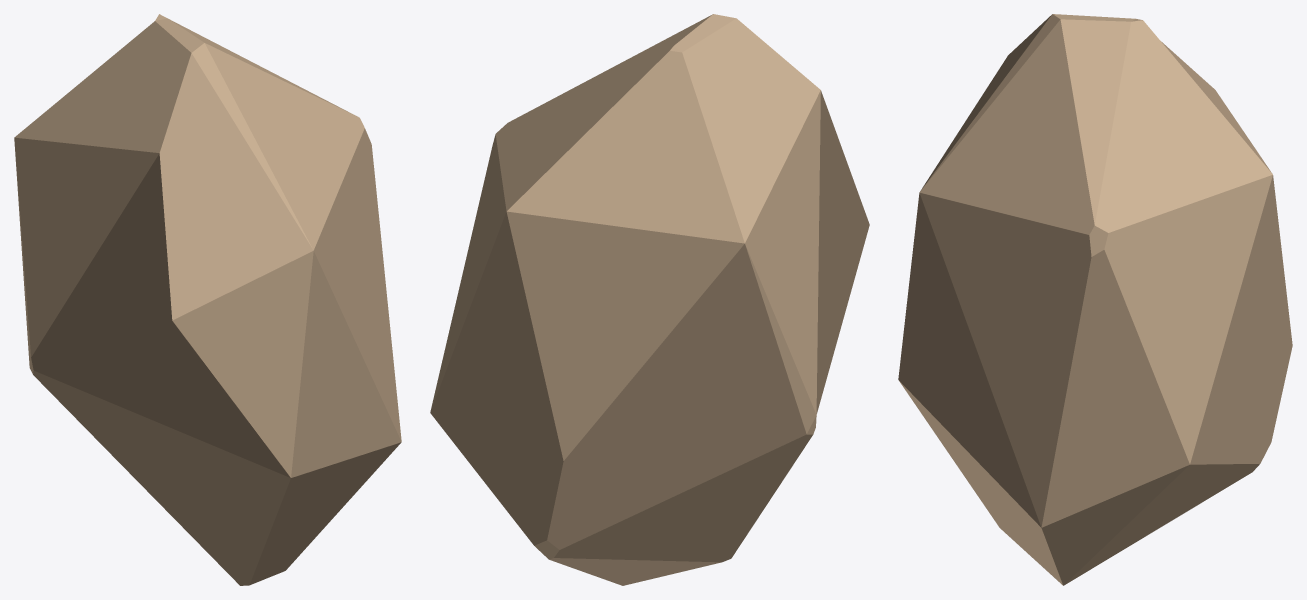
File: rock_medium_01.fbx
The picture shows the model from 3 angles, left to right: view 1: azimuth 30°, elevation 25°; view 2: azimuth 150°, elevation 25°; view 3: azimuth 270°, elevation 25°; orthographic projection. The views are drawn at different scales.
Visible parts, largest first — view 1: rock_medium_01; view 2: rock_medium_01; view 3: rock_medium_01.
Boxes of the visible parts, x1,y1,x2,y2 form: rock_medium_01: (14, 14, 401, 585); rock_medium_01: (430, 14, 869, 585); rock_medium_01: (898, 14, 1292, 585).
Size of the model in its own units: 158 by 251 by 170.
